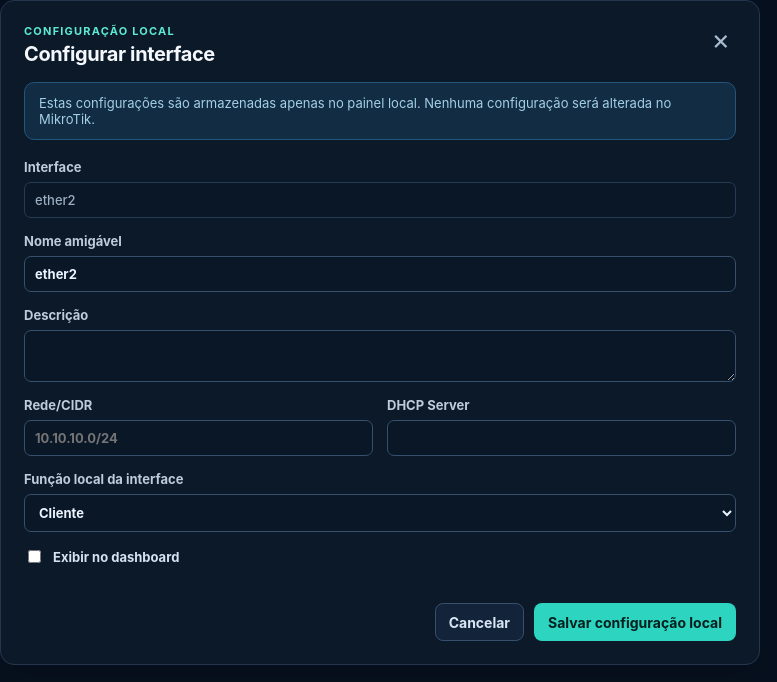
Scenario: configures a discovered interface locally and displays the CIDR returned by the backend
expect the text "Estas configurações são armazenadas apenas no painel local. Nenhuma configuração será alterada no MikroTik." is shown: met, box [39,95,671,127]
expect the text "ether2" is shown: met, box [24,182,736,218]
Replace the text in the field labelled "Nome amigável" with "Cliente João" at (380, 274), box [24,256,736,292]
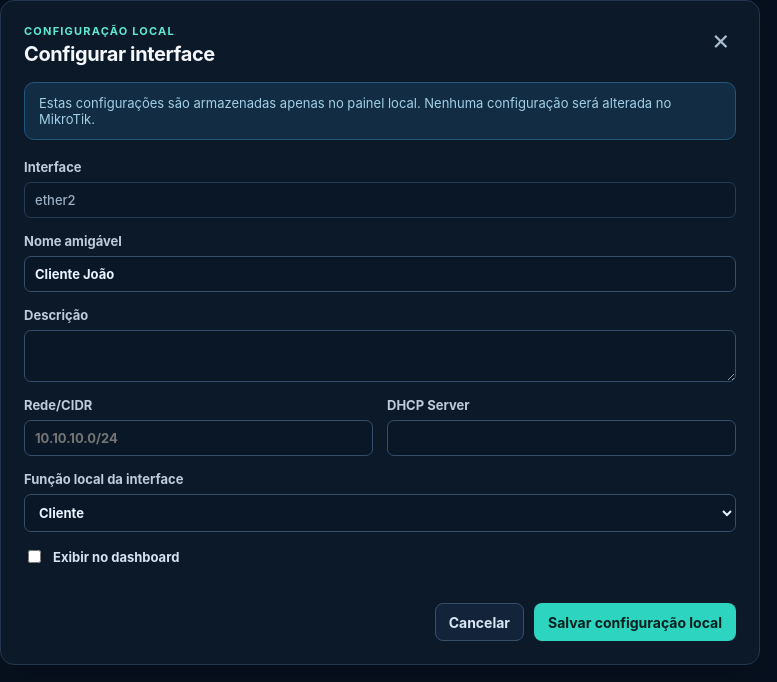
Type "Casa João" into the text box labelled "Descrição" at (380, 356), box [24,330,736,382]
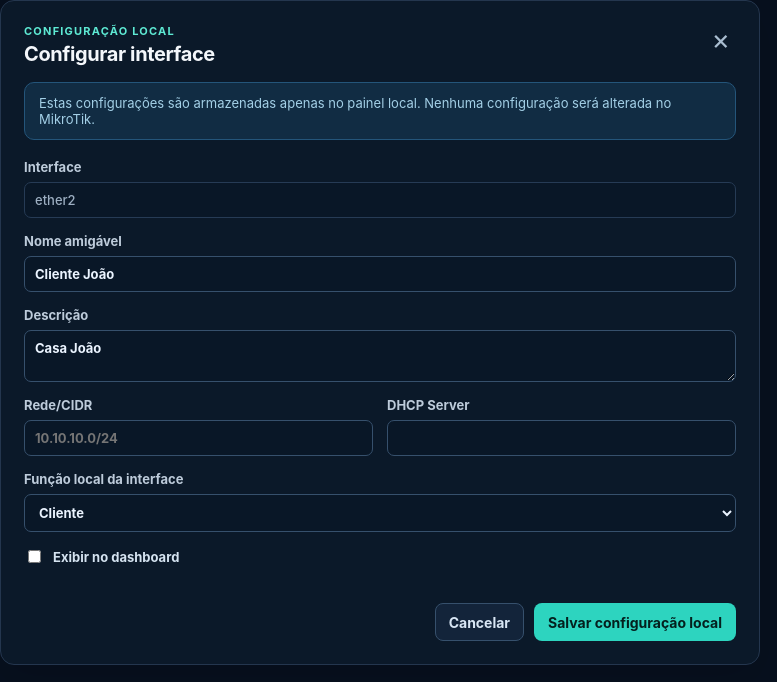
Type "10.10.10.17/24" into the field labelled "Rede/CIDR" at (198, 438), box [24,420,373,456]
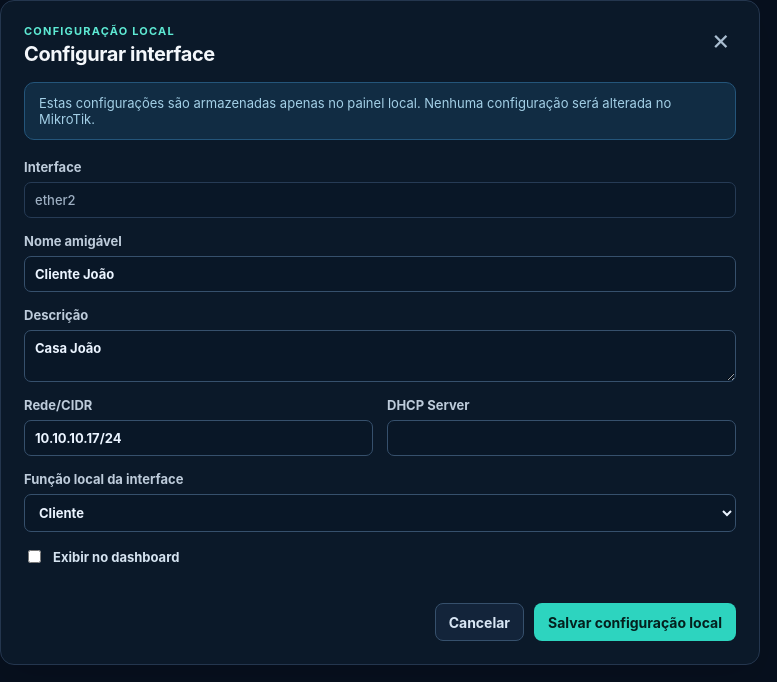
Type "dhcp-cliente1" into the field labelled "DHCP Server" at (562, 438), box [387,420,736,456]
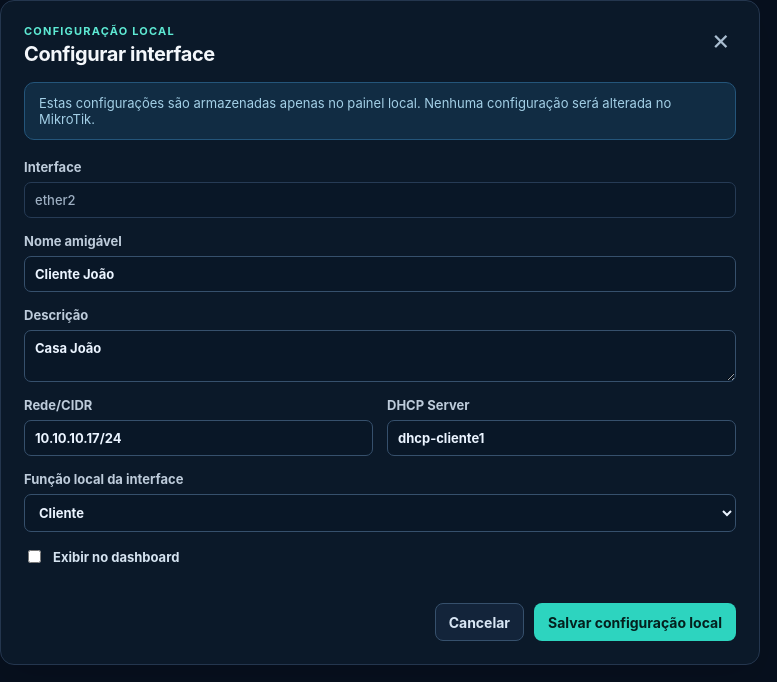
Click the checkbox labelled "Exibir no dashboard" at (34, 556), box [28,550,41,563]
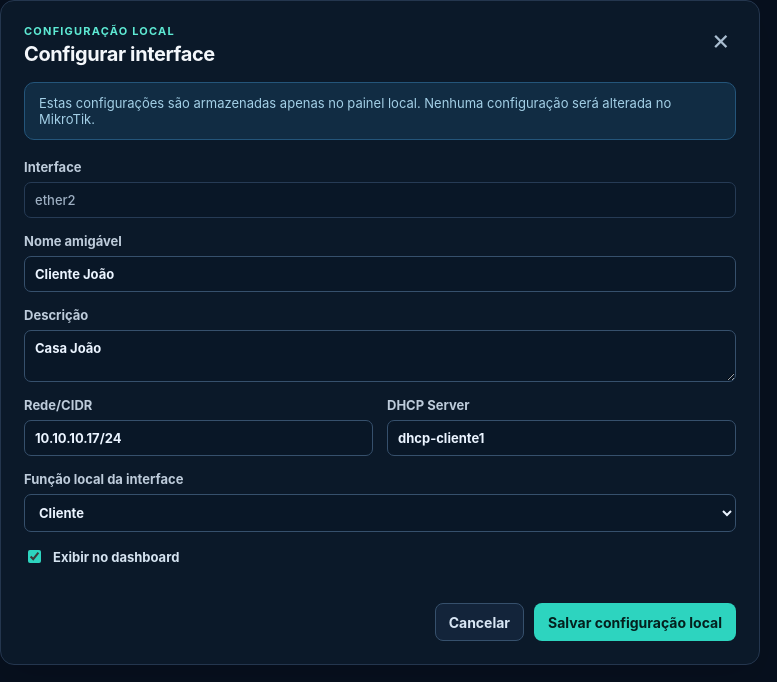
Click the button "Salvar configuração local" at (635, 622), box [534,603,736,641]
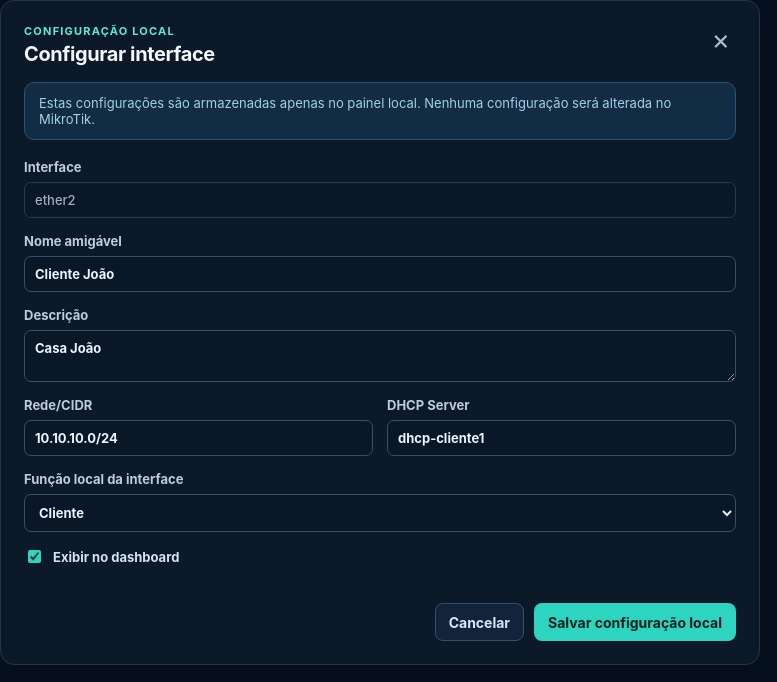
expect the field labelled "Rede/CIDR" holds "10.10.10.0/24": met, box [24,420,373,456]
